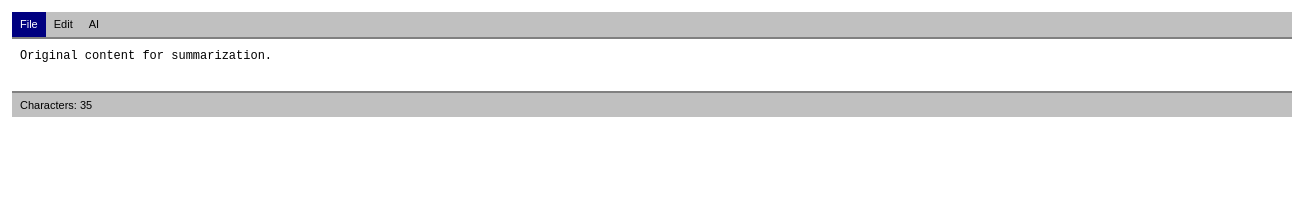
Notepad AI Integration › should clear summary when user edits document
// Generate summary first
Click the button "AI": (94,24) [81, 12, 107, 36]
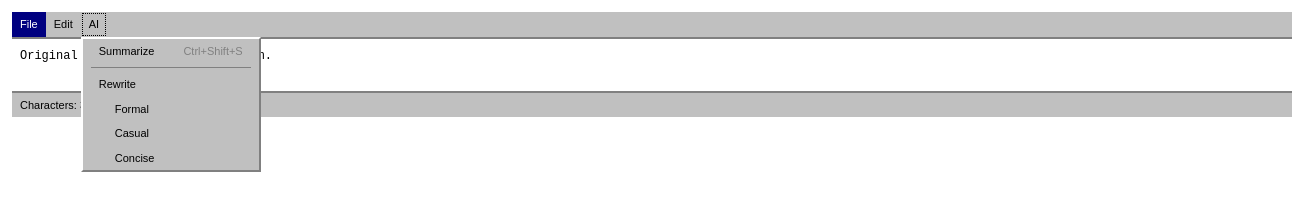
Click the text "Summarize": (126,51) [99, 42, 154, 59]
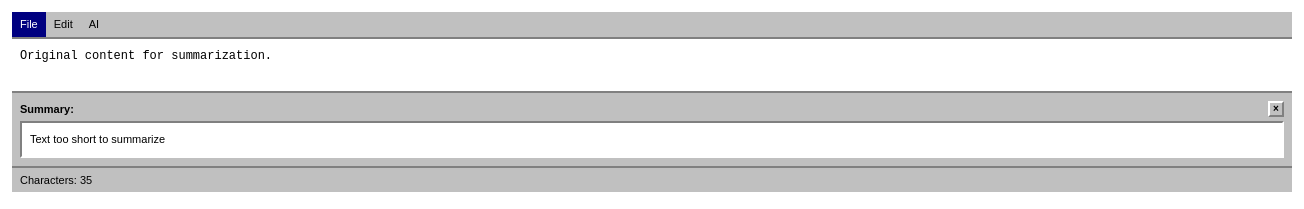
Expected: the text "Summary:" is shown, [20, 100, 74, 117]
// Edit the document
In the text box named "Document content": (652,64) [12, 38, 1292, 90], type " Additional text"
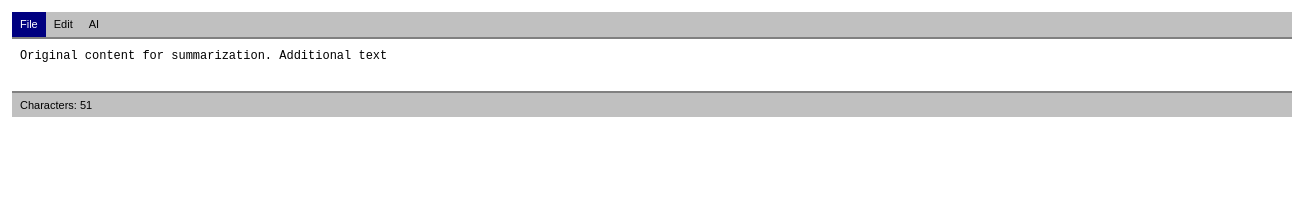
Expected: the text "Summary:" is gone
